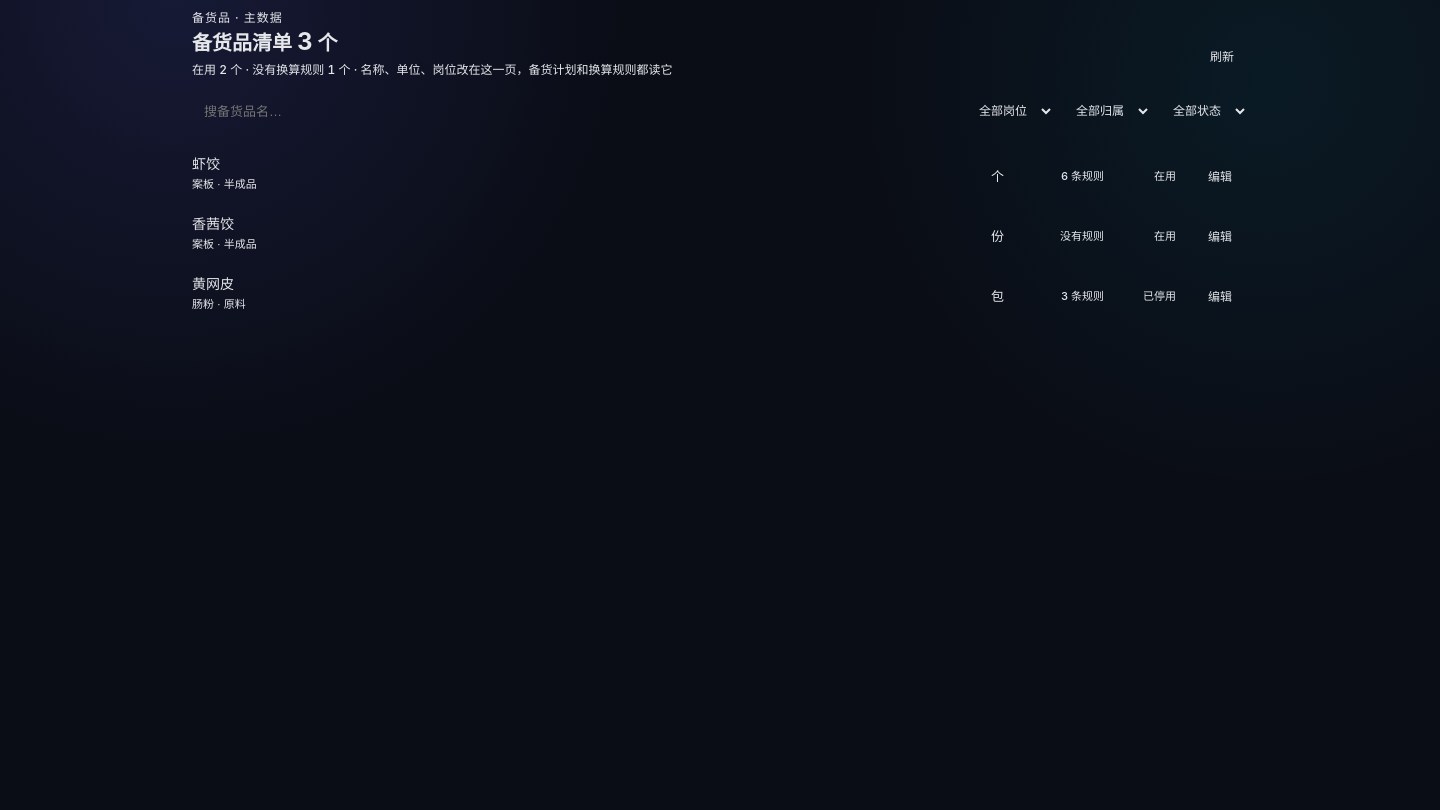
Scenario: 删除 › 确认后删除：调 DELETE、行从列表消失、面板关掉
Click the button "编辑" in the row of "没有规则" at [1220, 235], box [1192,213,1248,257]
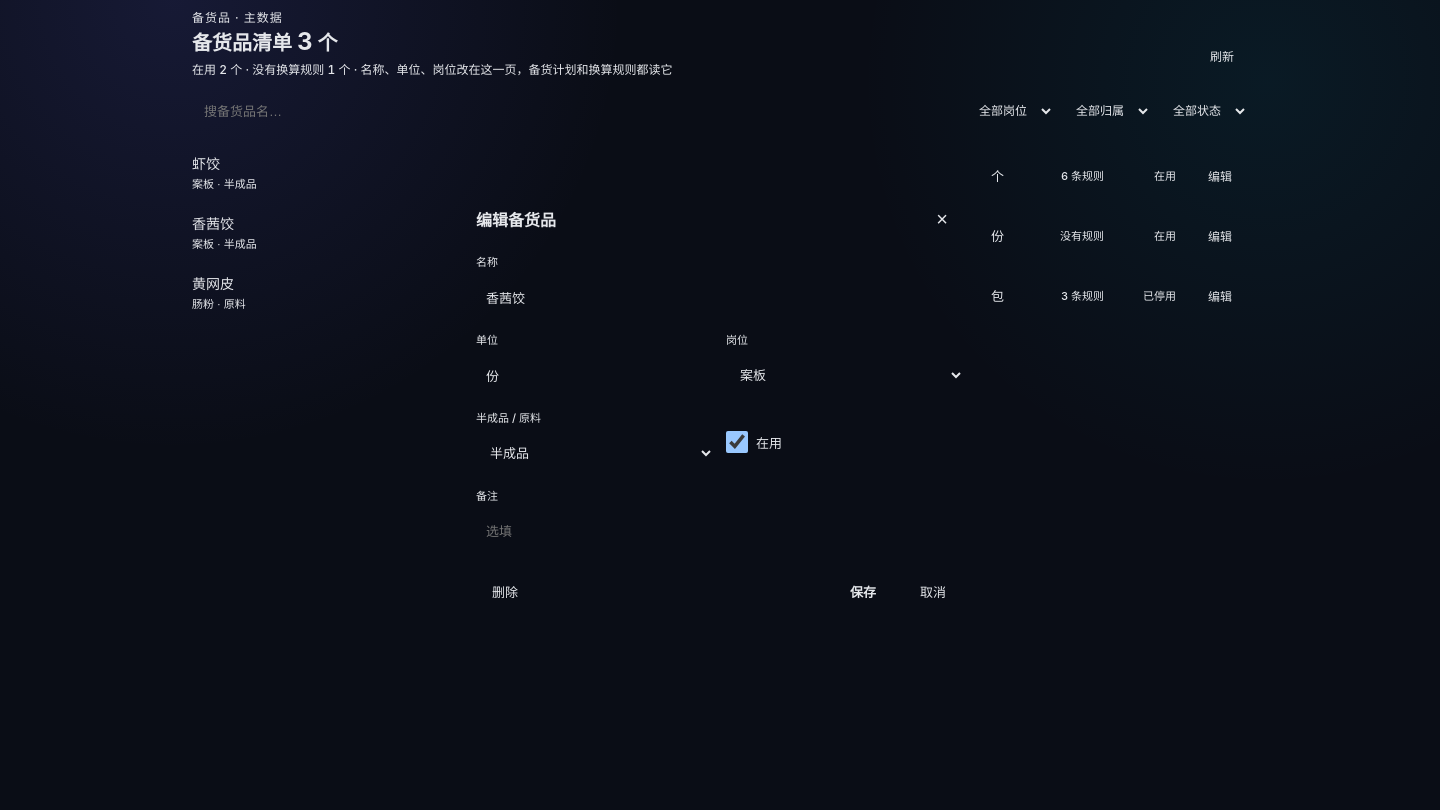
Click the button "删除" at [505, 591], box [476,569,534,613]
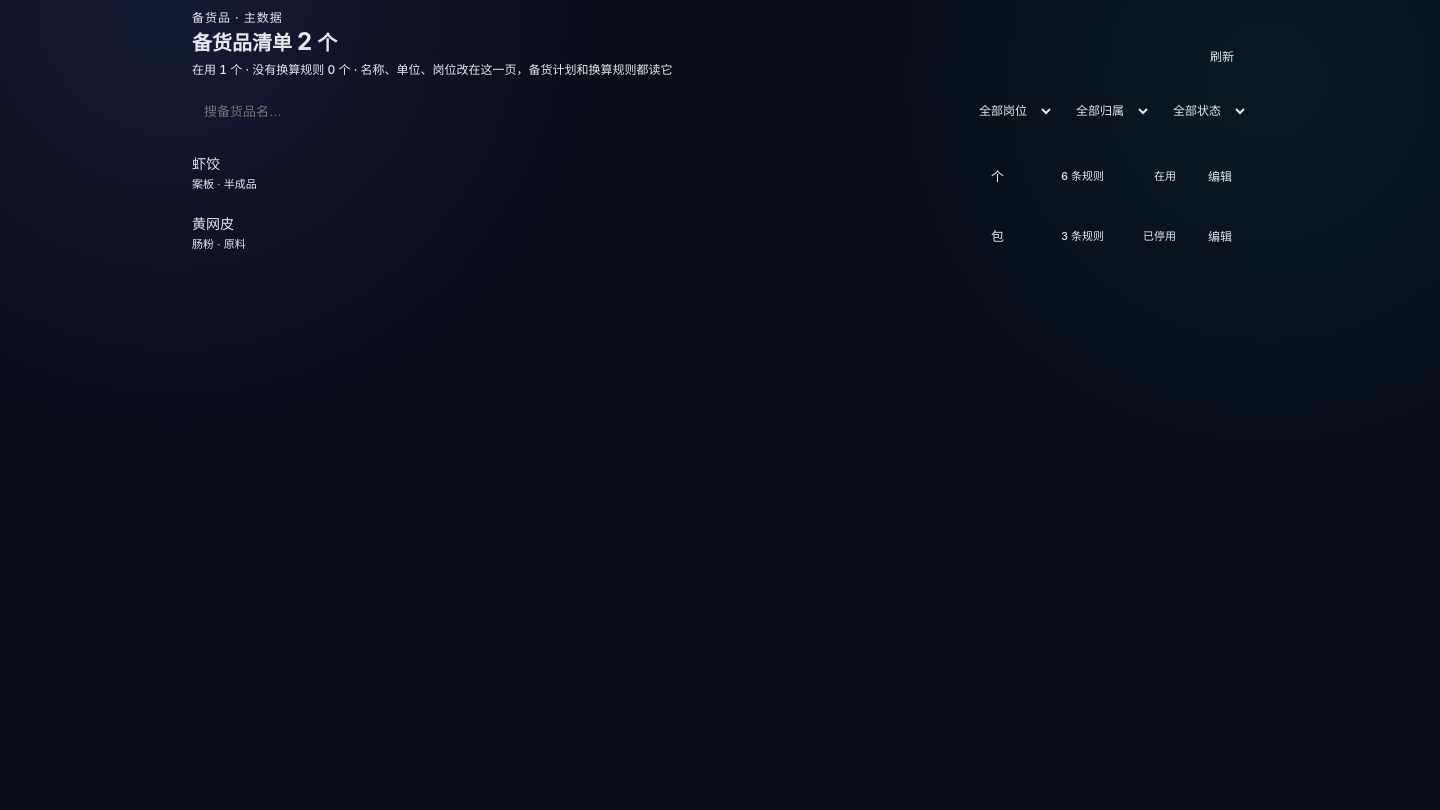
Expected: the number of list items is 2, [192,145,1248,205]; [192,205,1248,265]
Expected: the text "香茜饺" is gone
